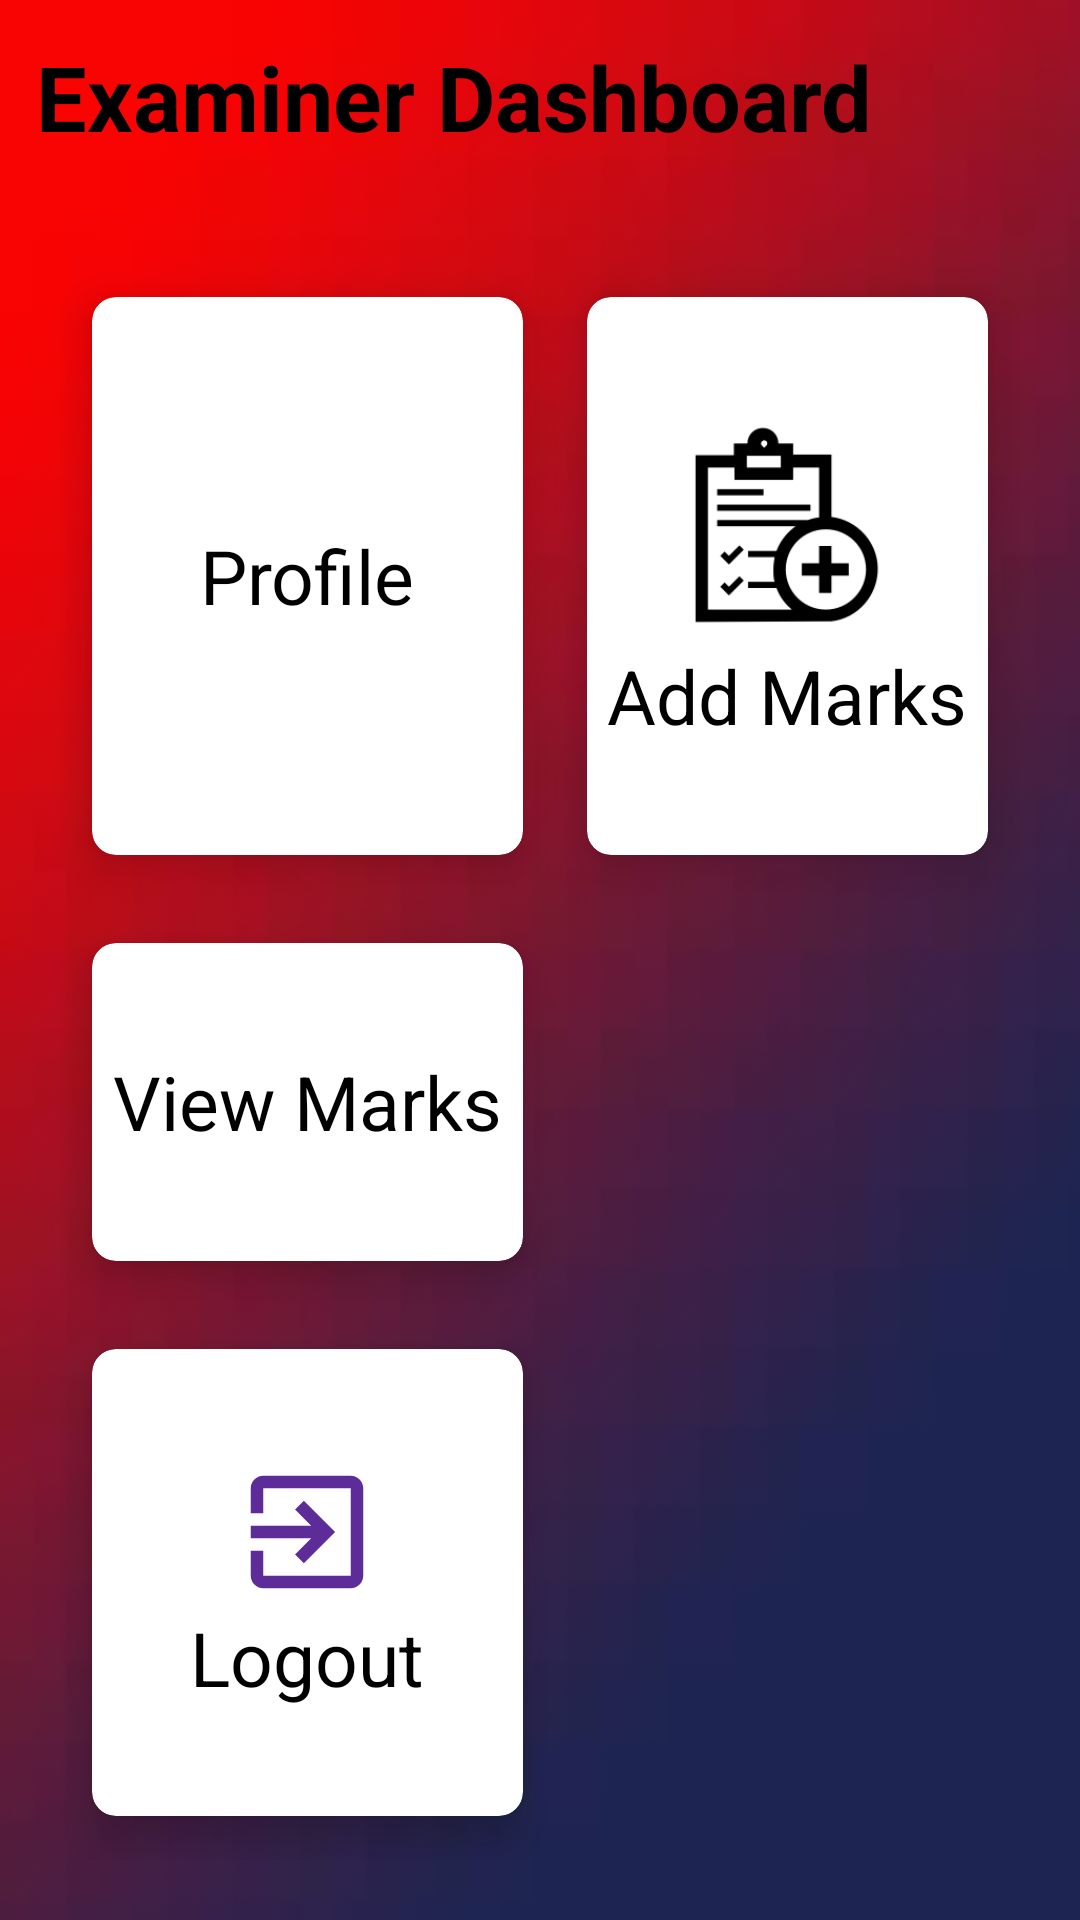

Icon bounding boxes for this 1080w x 1920h phone screenshot, format box(x1, y1, x2, y2):
exit: box(250, 1475, 364, 1589)
